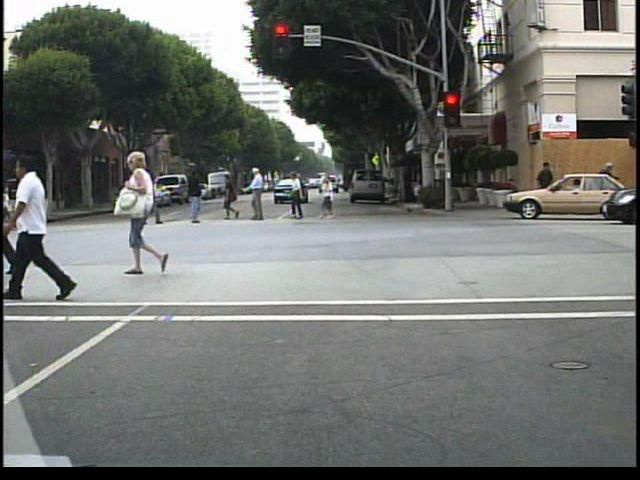person: (38, 152, 109, 299), (116, 150, 180, 280), (246, 166, 276, 222), (181, 169, 207, 228), (593, 157, 617, 213), (220, 168, 244, 223), (288, 169, 312, 223), (536, 157, 556, 212), (144, 171, 164, 226), (4, 183, 24, 235), (17, 194, 38, 239)
